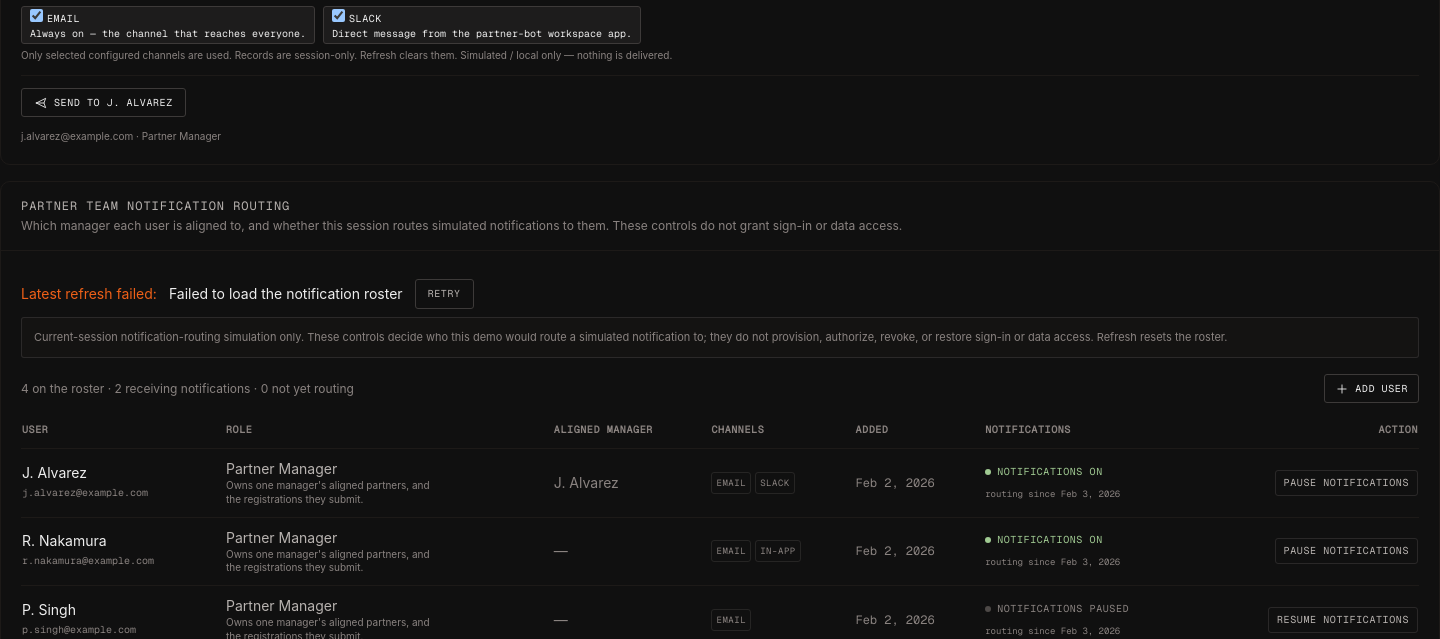
Test: SettingsView › keeps retained data visible with truthful tiles and focused retries when a same-scope refresh fails
(page scrolled)
Step 1. Click the button with aria-label "Retry The team roster" → x=444, y=294, box [415,279,474,309]
(page scrolled)
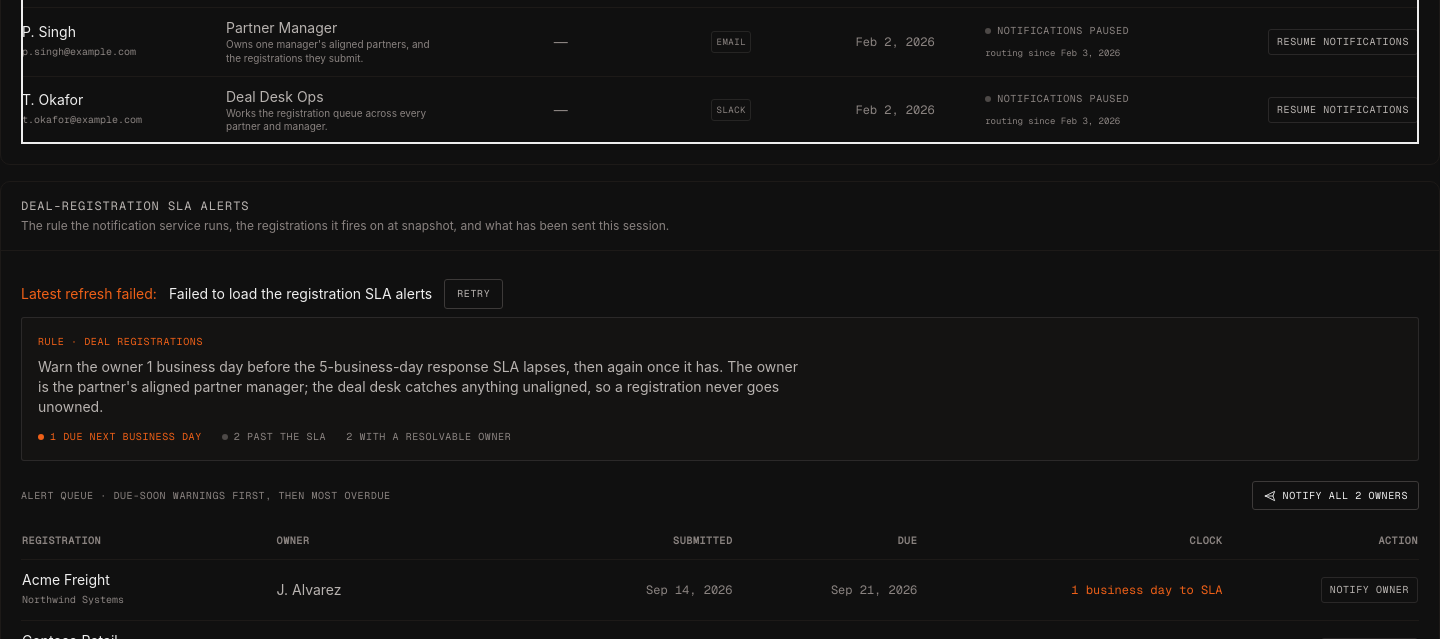
Expected: the text "Failed to load the registration SLA alerts" is shown, [169,285,432,302]
Now the text "Latest refresh failed:" is shown once, box [21,284,157,304]
Step 2. Click the button with aria-label "Retry The SLA alert queue" → x=474, y=294, box [444,279,503,309]
(page scrolled)
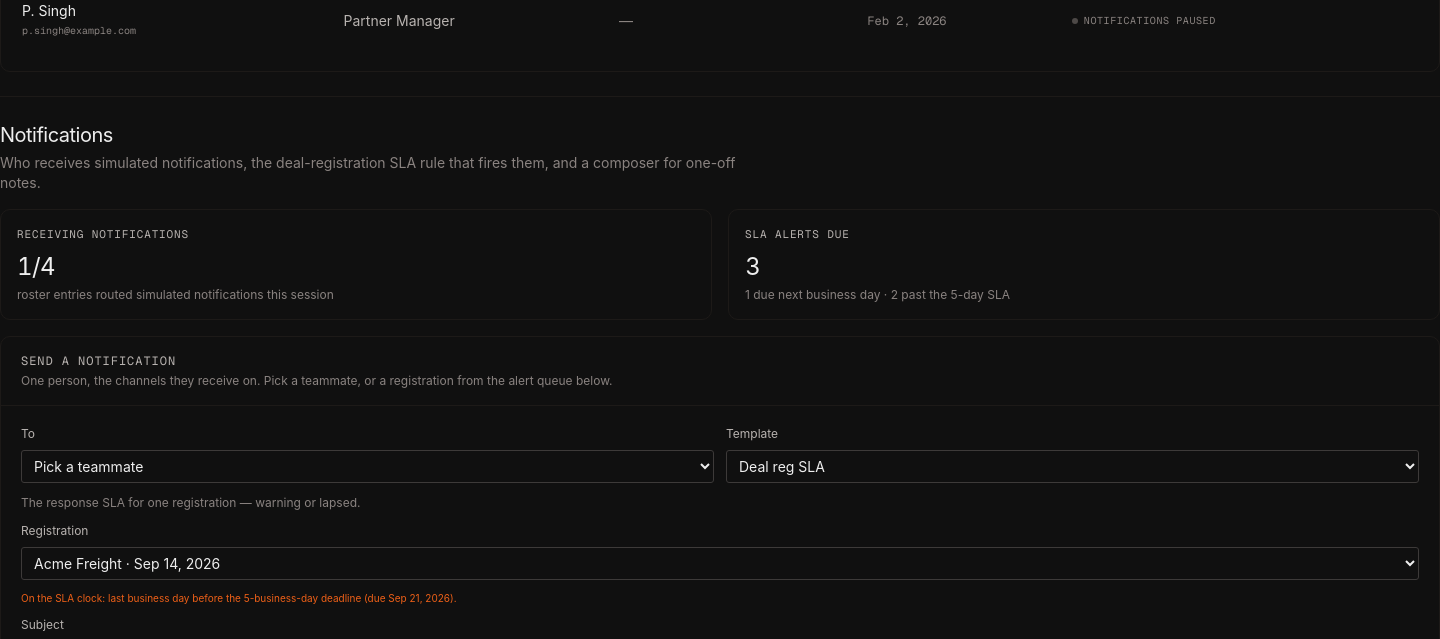
Now the text "Latest refresh failed:" is gone
